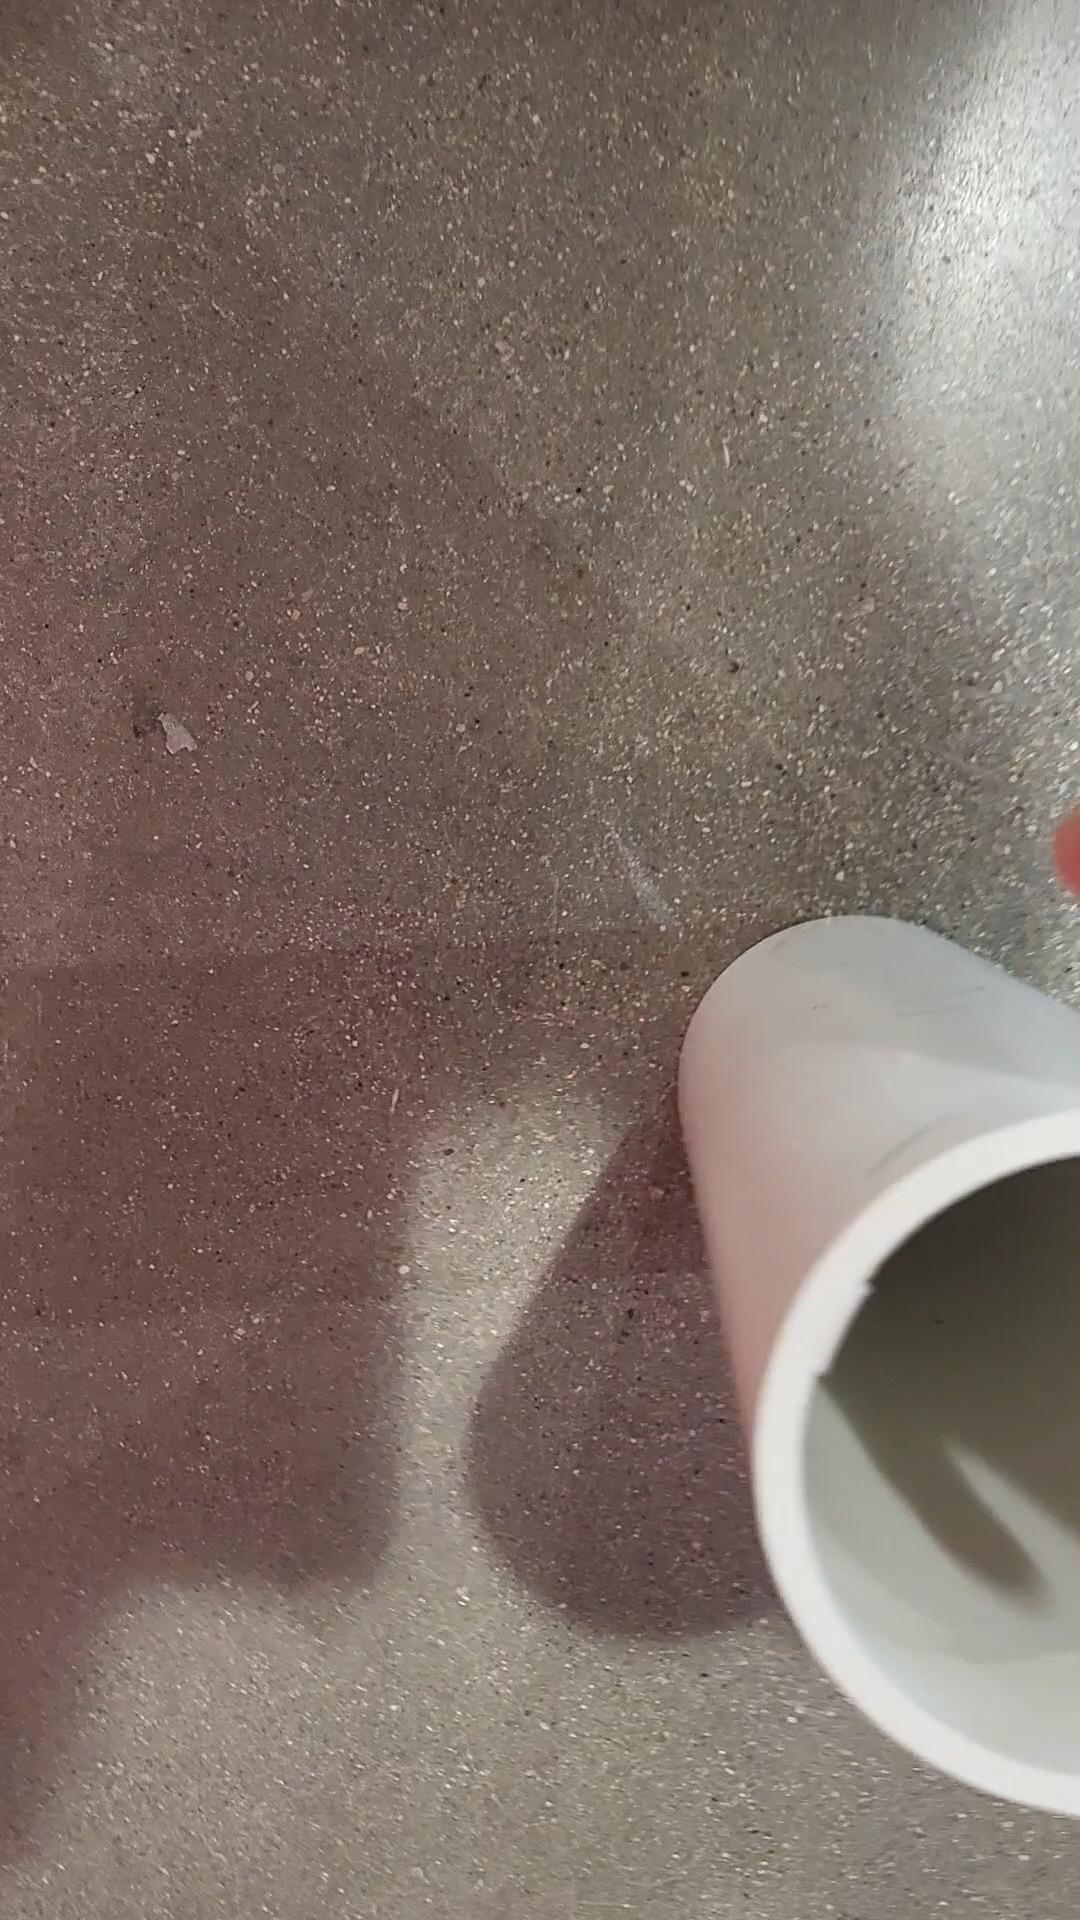coral: (670, 911, 1080, 1837)
